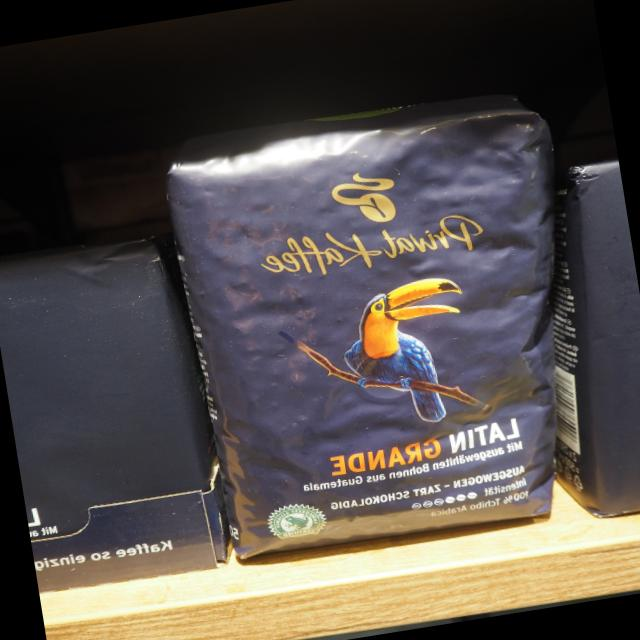LG Bohne: (149, 78, 562, 567)
